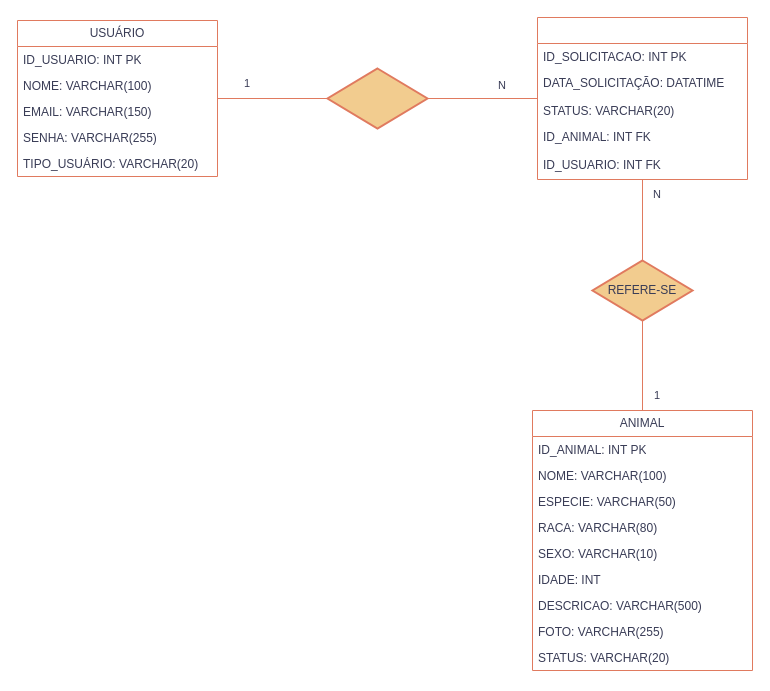
Some shapes in this 770 by 691 pixel diagram are drawn without their labels. The box of each missing label's shape, as (x1, y1, x2, y2) in pixels:
REALIZA: (326, 67, 428, 129)
SOLICITACAO_ADOCAO: (536, 16, 748, 180)
